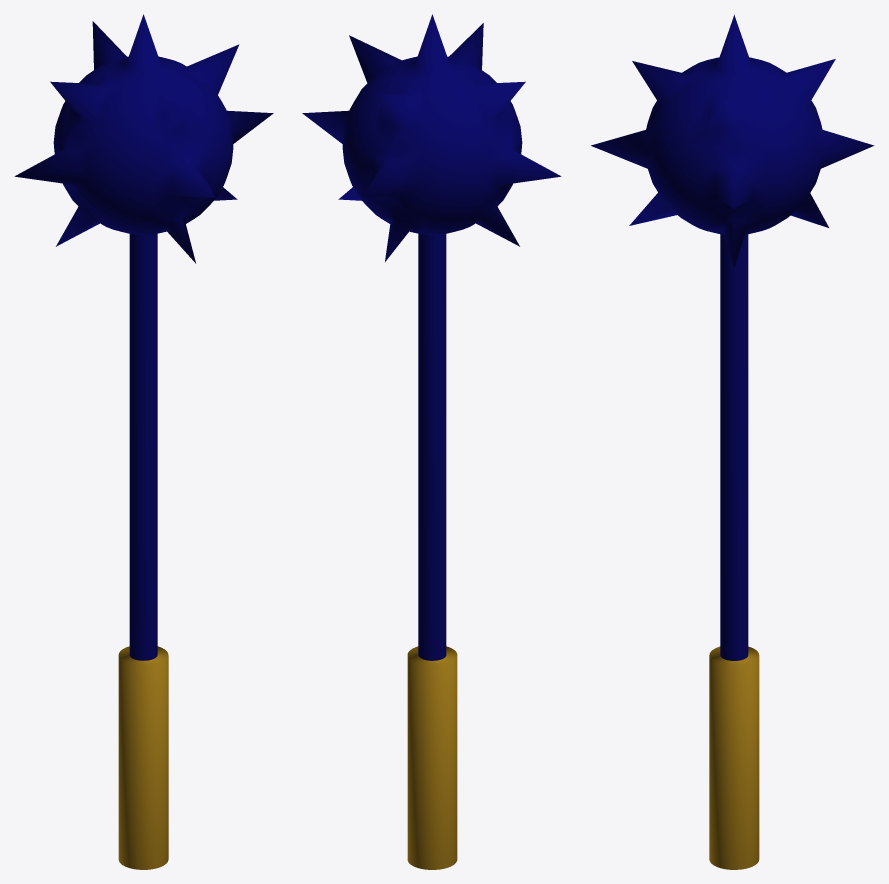
The picture shows the model from 3 angles, left to right: view 1: azimuth 30°, elevation 25°; view 2: azimuth 150°, elevation 25°; view 3: azimuth 270°, elevation 25°; orthographic projection.
Parts seen in each view (by area): view 1: Sphere, Cylinder, grip_normal.001; view 2: Sphere, Cylinder, grip_normal.001; view 3: Sphere, Cylinder, grip_normal.001.
Boxes of the visible parts, <box> form: Sphere: <box>14,14,273,263</box>; Cylinder: <box>129,233,157,660</box>; grip_normal.001: <box>118,646,168,869</box>; Sphere: <box>302,14,561,261</box>; Cylinder: <box>418,233,446,660</box>; grip_normal.001: <box>407,646,457,869</box>; Sphere: <box>591,14,874,268</box>; Cylinder: <box>720,234,748,660</box>; grip_normal.001: <box>709,646,759,869</box>.
Bounding box in the file's own units: 0.2239 × 0.6959 × 0.2123.
Materials: 2 (2 with a texture image).
